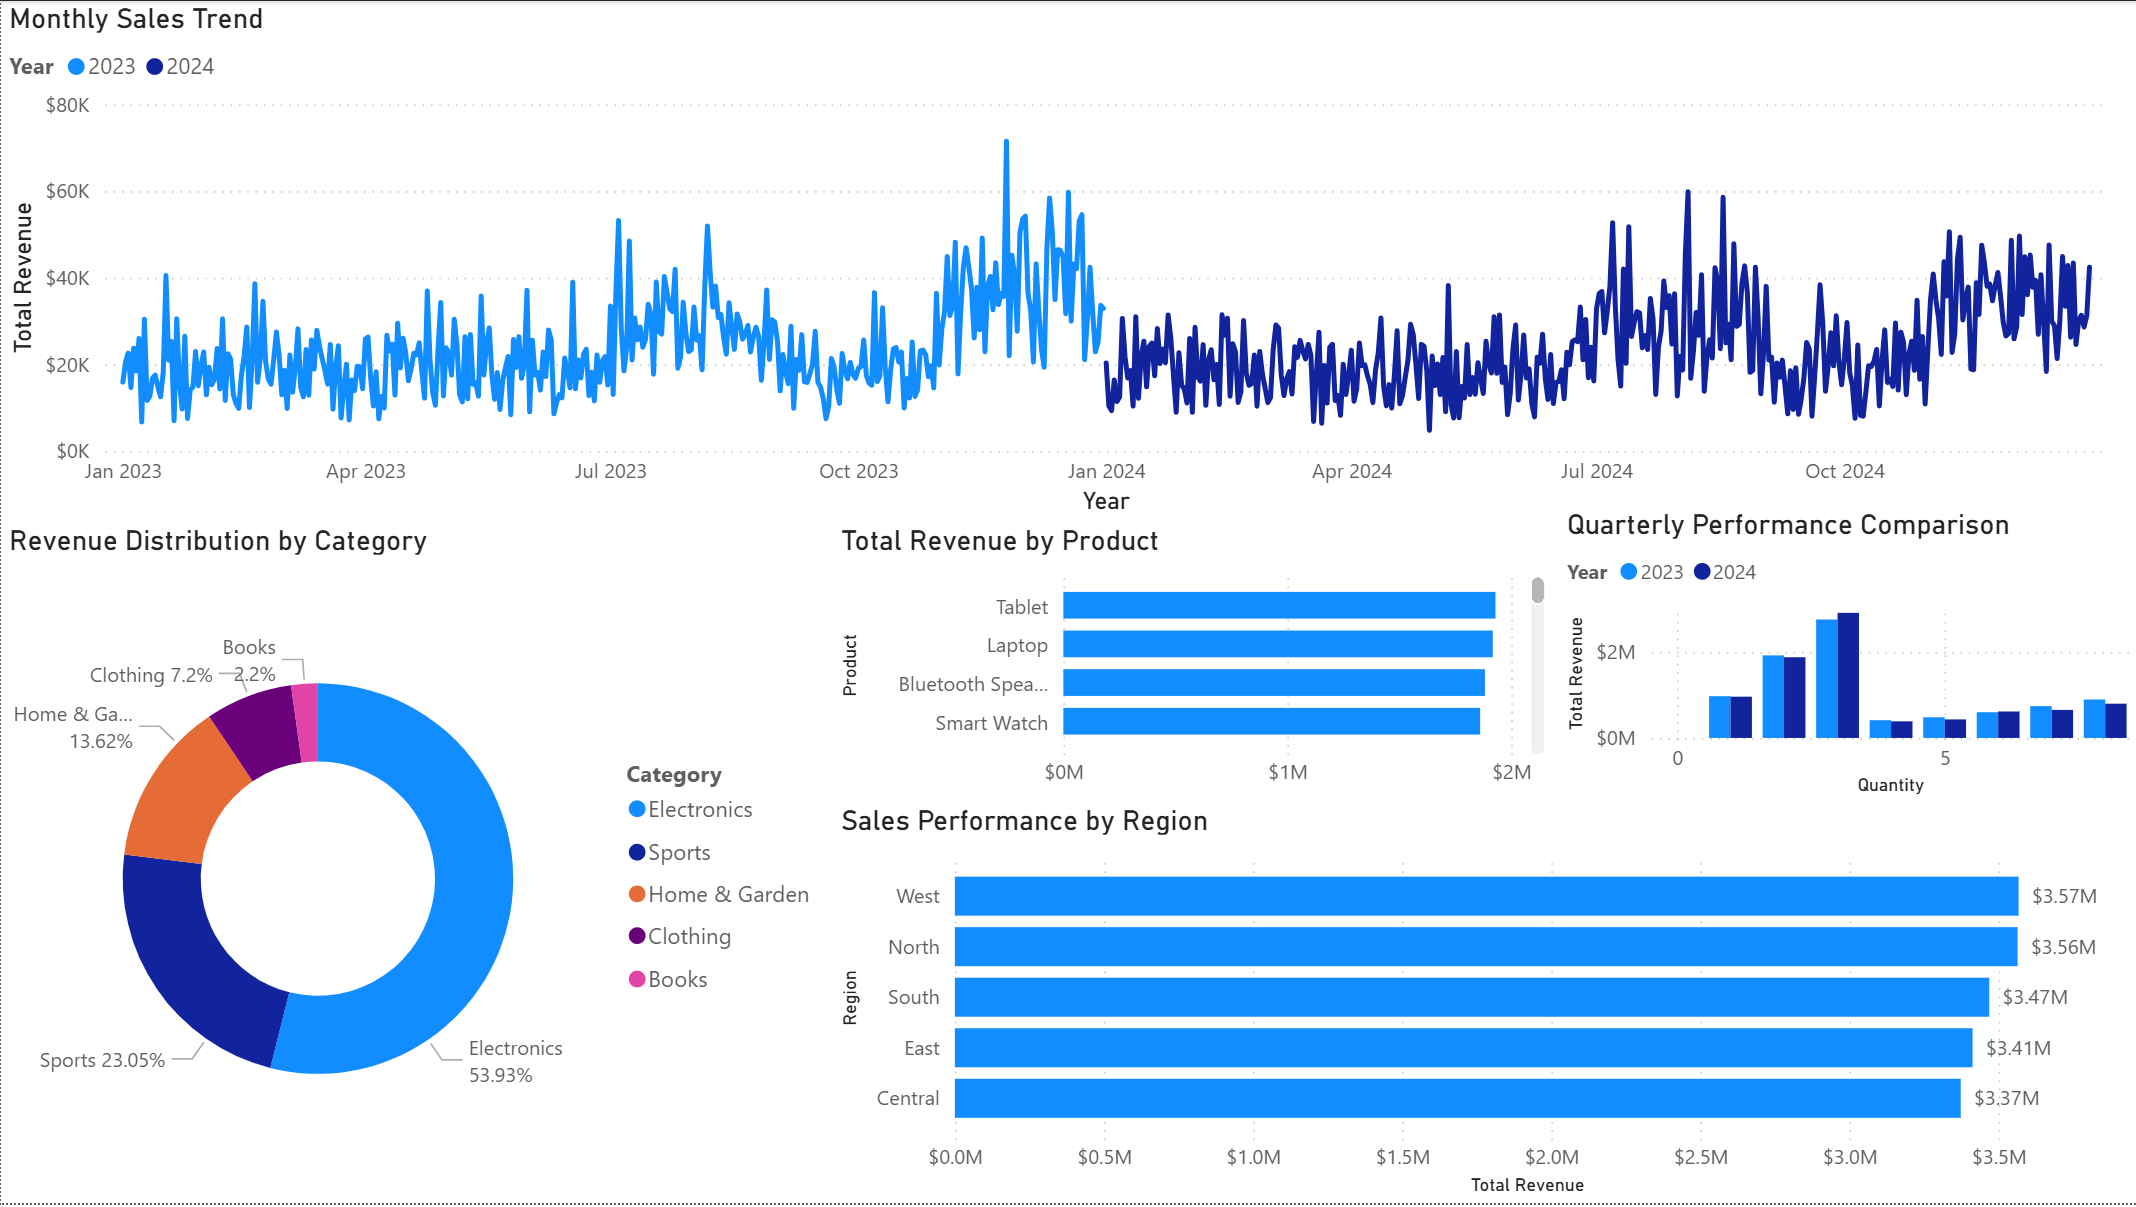

Layout of this report page (visuals, bound fields, positions):
{"tool":"powerbi","page":{"name":"Overview Dashboard","canvas":[1280,720],"ordinal":0},"visuals":[{"type":"lineChart","title":"Monthly Sales Trend","fields":{"Category":["Sales_Table.Date.Variation.Date Hierarchy.Year","Sales_Table.Date.Variation.Date Hierarchy.Quarter","Sales_Table.Date.Variation.Date Hierarchy.Month","Sales_Table.Date.Variation.Date Hierarchy.Day"],"Y":["Sales_Table.Total Revenue"],"Series":["Sales_Table.Year"]},"box":[419.6,0,860.4,312.9],"z":0},{"type":"donutChart","title":"Revenue Distribution by Category","fields":{"Y":["Sales_Table.Total Revenue"],"Category":["Sales_Table.Category"]},"box":[0,312.8,498.7,407],"z":1000},{"type":"clusteredBarChart","title":"Sales Performance by Region","fields":{"Y":["Sales_Table.Total Revenue"],"Category":["Sales_Table.Region"]},"box":[498.7,480.3,781.3,239.5],"z":2000},{"type":"clusteredBarChart","fields":{"Category":["Sales_Table.Product"],"Y":["Sales_Table.Total Revenue"]},"box":[498.7,312.8,431.2,167.5],"z":3000},{"type":"clusteredColumnChart","title":"Quarterly Performance Comparison","fields":{"Y":["Sales_Table.Total Revenue"],"Category":["Sales_Table.Quantity"],"Series":["Sales_Table.Year"]},"box":[933.2,303,346.8,177.3],"z":4000},{"type":"slicer","fields":{"Values":["Sales_Table.Year"]},"box":[0,0,115.3,179.2],"z":5000},{"type":"slicer","fields":{"Values":["Sales_Table.Category"]},"box":[130.4,0,118.6,231.9],"z":6000},{"type":"slicer","fields":{"Values":["Sales_Table.Quantity"]},"box":[249,0,170.6,231.9],"z":7000},{"type":"slicer","fields":{"Values":["Sales_Table.Region"]},"box":[11.2,238.5,384.7,74.4],"z":8000},{"type":"textbox","box":[614.3,0,569.6,57.2],"z":8001}]}

Visuals, with their boxes in screenshot pixels (x1, y1, x2, y2), scaled from the page's 1280x720 canvas onto the 2136x1207 screenshot:
"Monthly Sales Trend" lineChart: crop(700, 0, 2135, 525)
"Revenue Distribution by Category" donutChart: crop(0, 524, 832, 1206)
"Sales Performance by Region" clusteredBarChart: crop(832, 805, 2135, 1206)
clusteredBarChart - Sales_Table.Product x Sales_Table.Total Revenue: crop(832, 524, 1552, 805)
"Quarterly Performance Comparison" clusteredColumnChart: crop(1557, 508, 2135, 805)
slicer - Sales_Table.Year: crop(0, 0, 192, 300)
slicer - Sales_Table.Category: crop(218, 0, 416, 389)
slicer - Sales_Table.Quantity: crop(416, 0, 700, 389)
slicer - Sales_Table.Region: crop(19, 400, 661, 525)
textbox: crop(1025, 0, 1976, 96)
